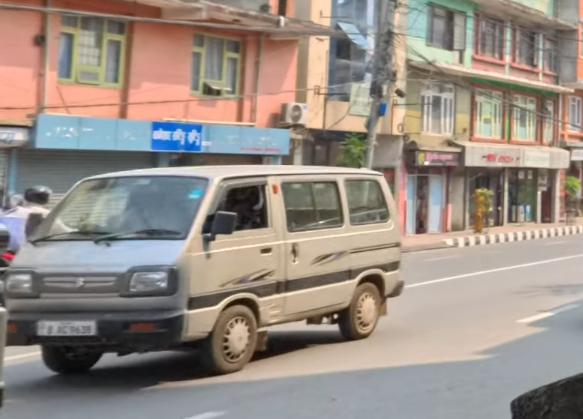van: (4, 151, 416, 374)
